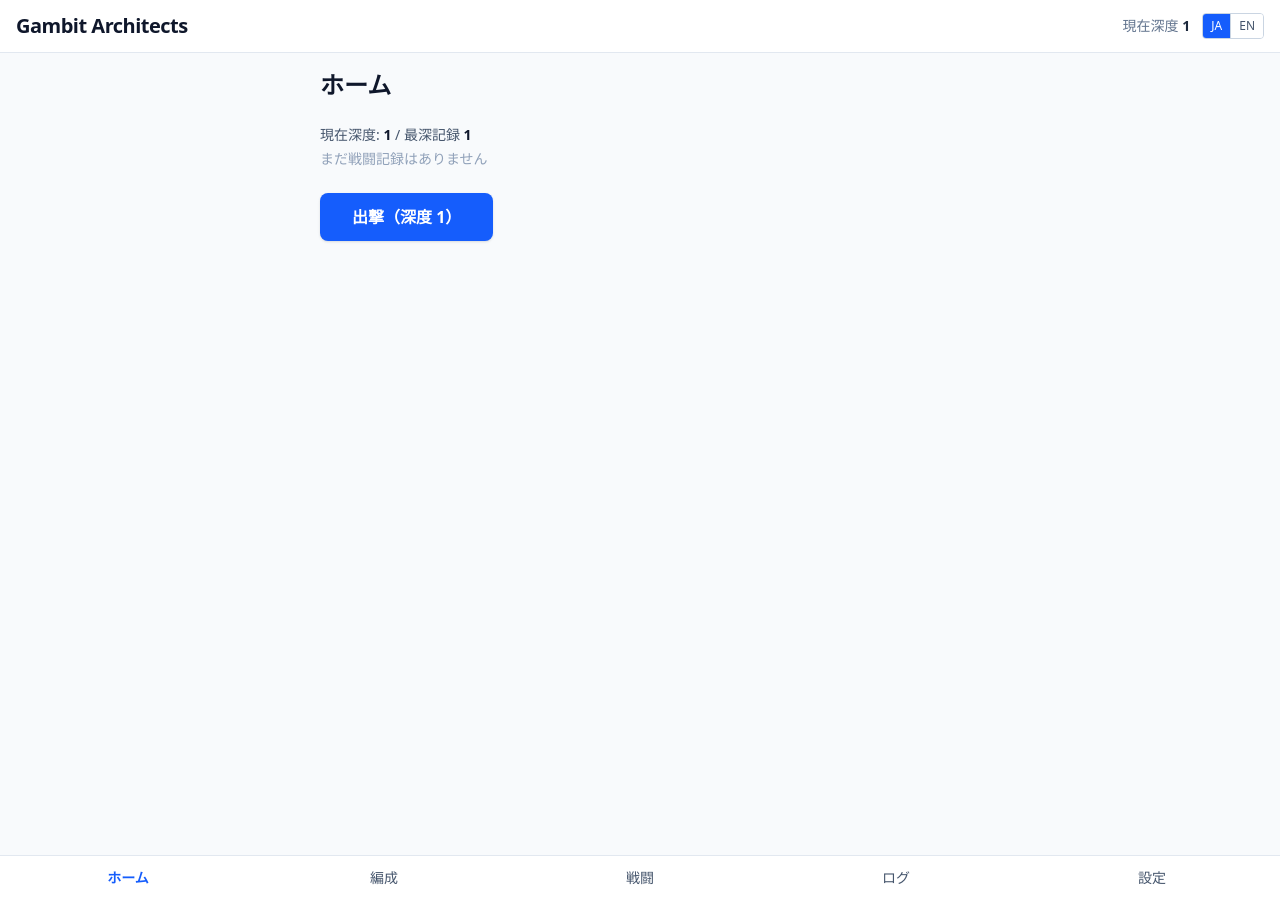
Test: E2E：ホーム → 戦闘 → ホーム › 出撃 → スキップ → ホームへ戻る で深度が +1 され、ログに記録される
Check: the heading "ホーム" is shown, box [320,68,391,101]
Click the button "出撃（深度 1）" at (407, 217), box [320,193,493,241]
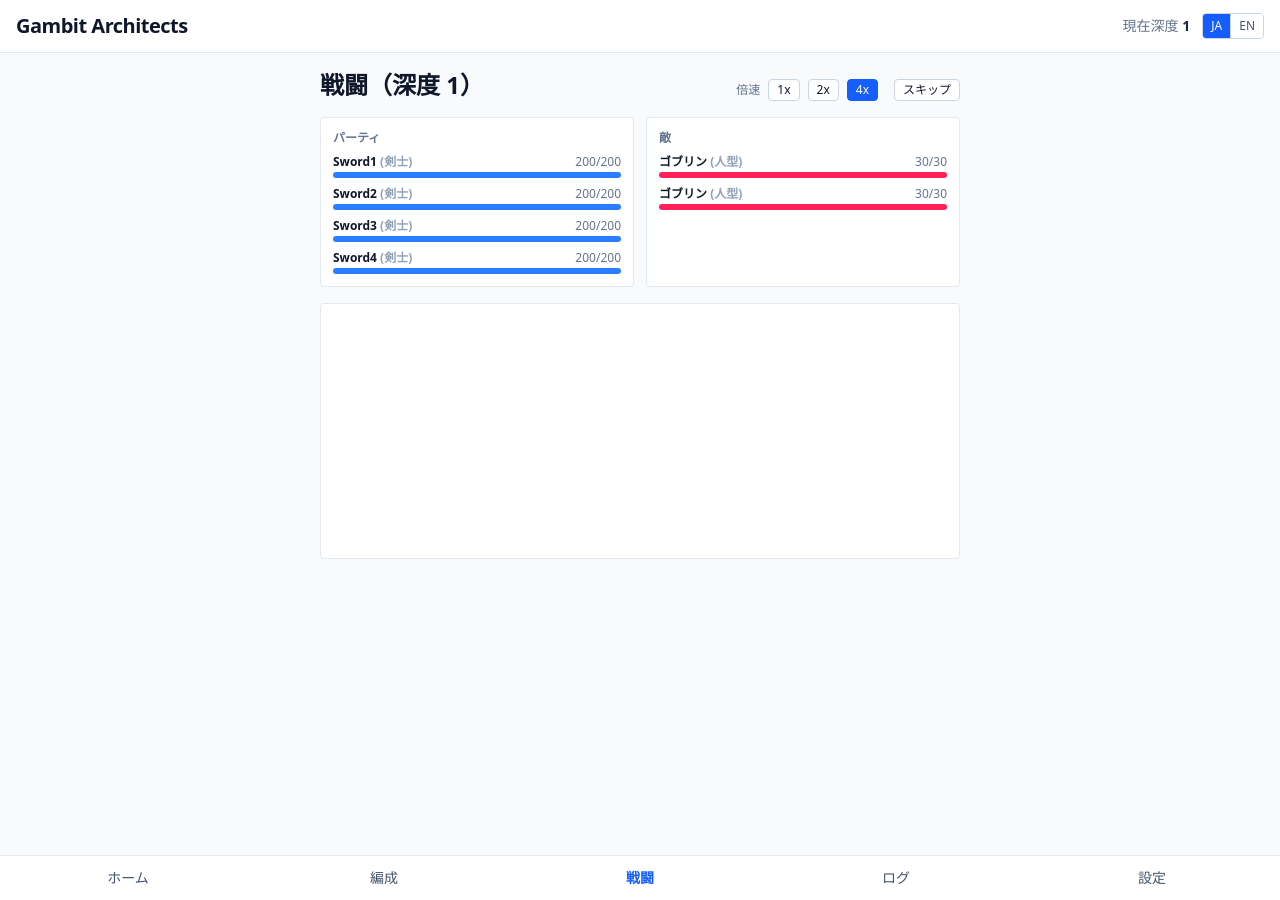
Check: the heading "戦闘（深度 1）" is shown, box [320,69,484,101]
Note: スキップで戦闘終端
Click the button "スキップ" at (927, 90), box [894,79,960,101]
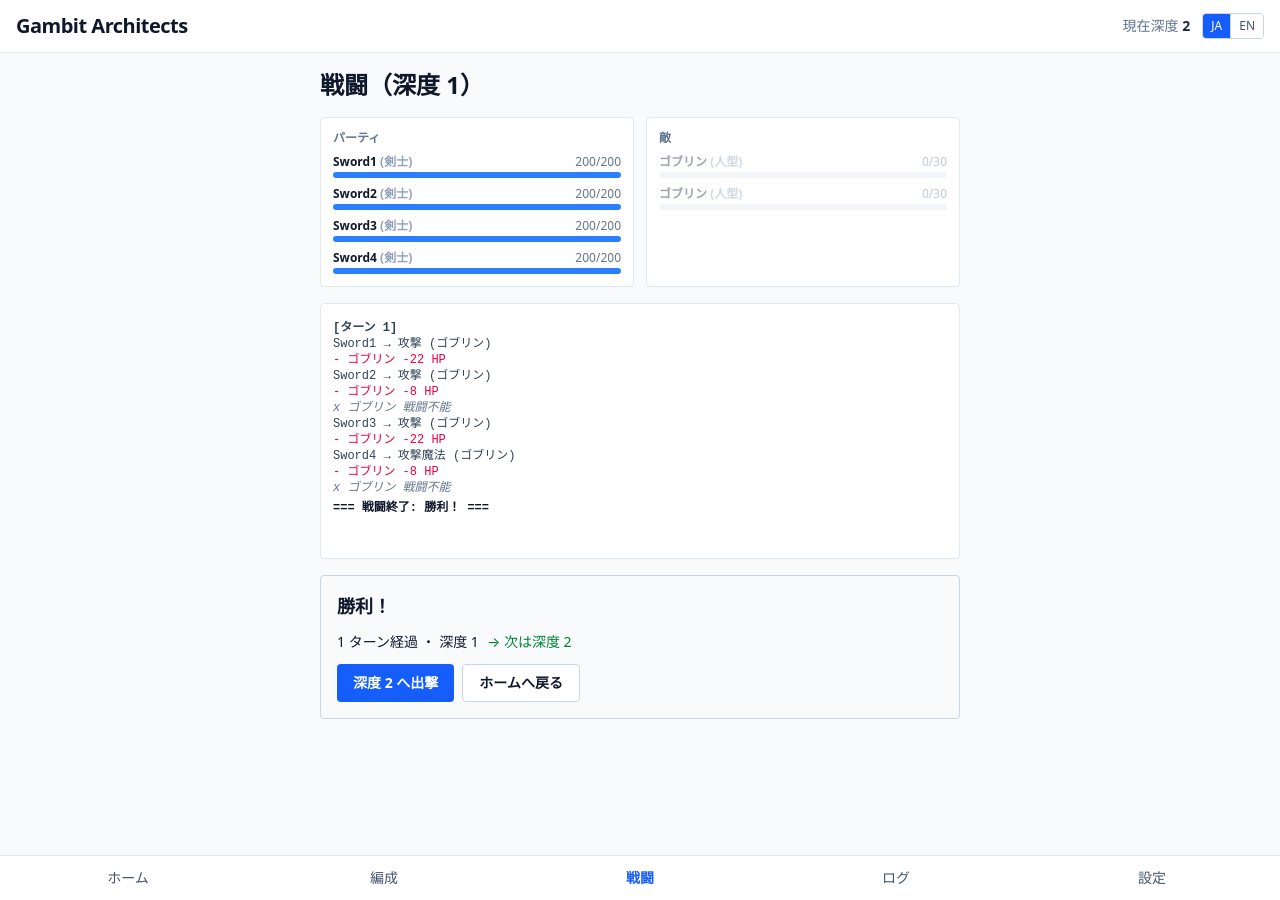
Check: the heading "勝利！" is shown, box [337,594,391,618]
Click the button "ホームへ戻る" at (521, 683), box [462,664,580,702]
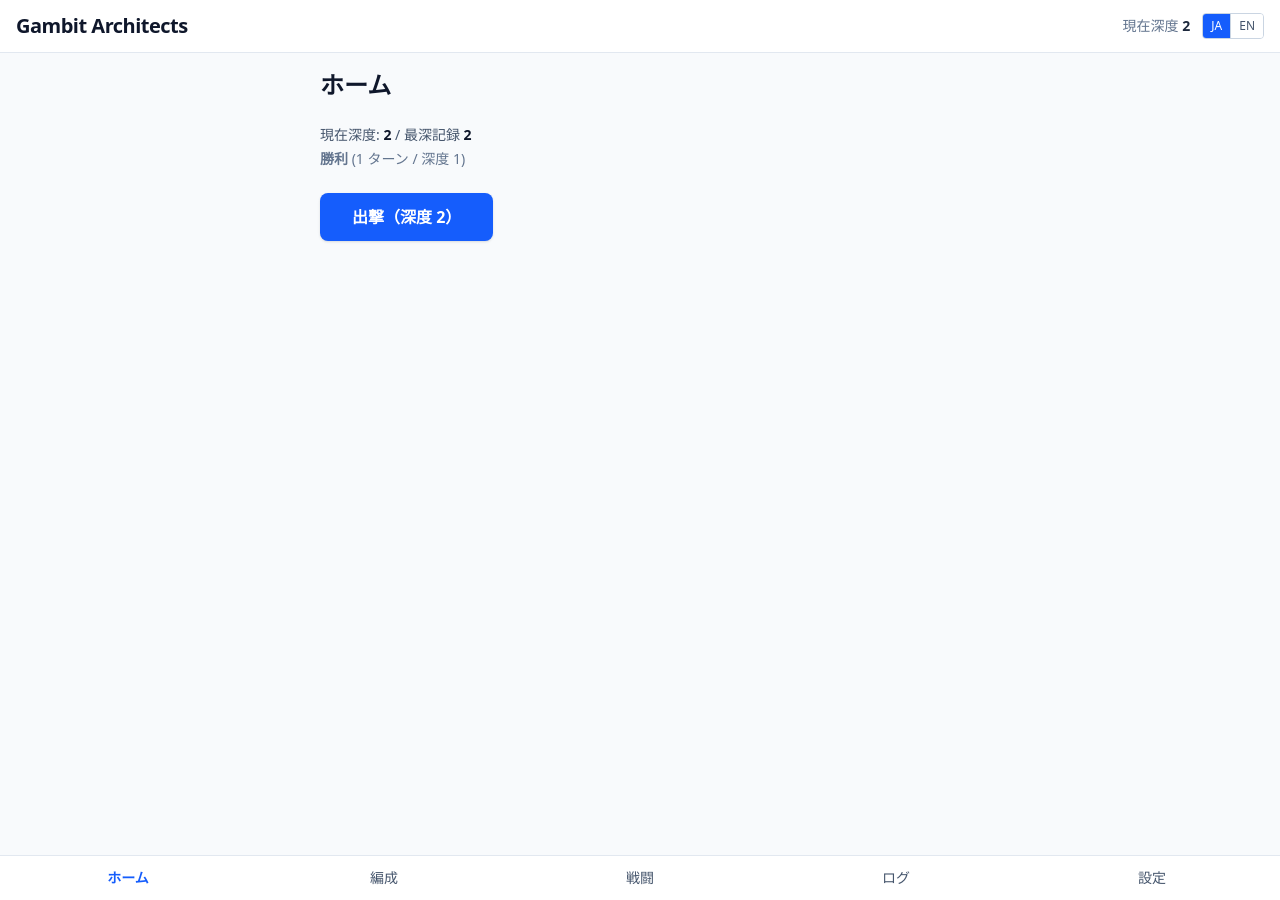
Check: the text "勝利" is shown, box [320,149,348,168]
Check: the heading "ホーム" is shown, box [320,68,391,101]
Check: the button "出撃（深度 2）" is shown, box [320,193,493,241]
